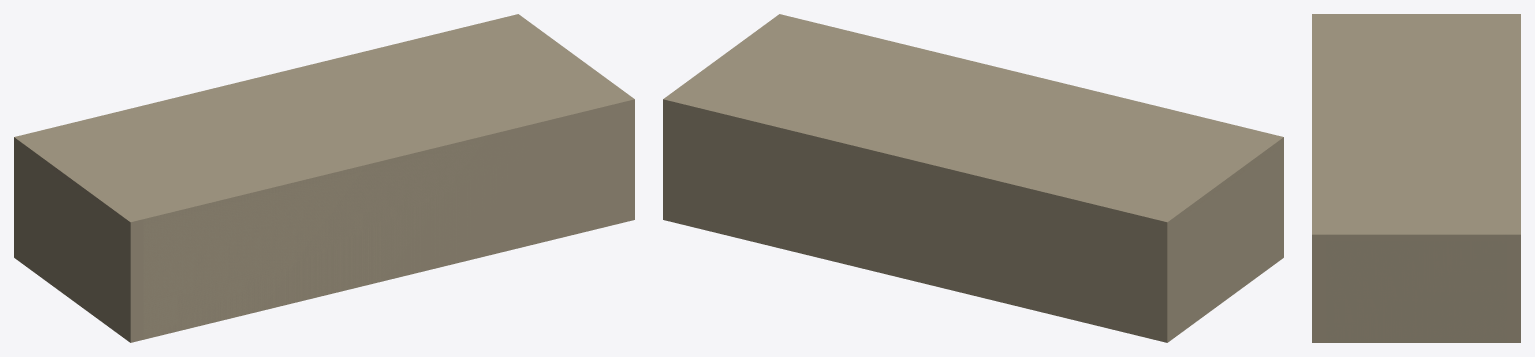
Rendered from street_kerb.glb.
3 views of the same model, side by side, from view 1: azimuth 30°, elevation 25°; view 2: azimuth 150°, elevation 25°; view 3: azimuth 270°, elevation 25° (orthographic). The views are drawn at different scales.
Parts seen in each view (by area): view 1: street_kerb_detail, street_kerb_far, street_kerb_medium; view 2: street_kerb_detail, street_kerb_medium, street_kerb_far; view 3: street_kerb_detail, street_kerb_medium, street_kerb_far.
Boxes of the visible parts, x1,y1,x2,y2 form: street_kerb_detail: (21, 19, 621, 339); street_kerb_far: (14, 14, 634, 342); street_kerb_medium: (21, 17, 623, 339); street_kerb_detail: (676, 19, 1276, 339); street_kerb_medium: (675, 17, 1276, 339); street_kerb_far: (663, 14, 1283, 342); street_kerb_detail: (1317, 14, 1515, 342); street_kerb_medium: (1312, 14, 1520, 342); street_kerb_far: (1312, 14, 1520, 342).
Size of the model in its own units: 0.7 by 0.16 by 0.28.
